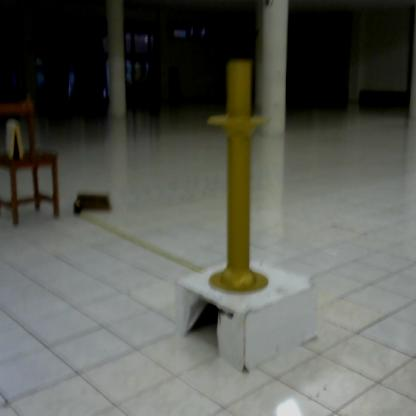pole: (200, 54, 277, 304)
